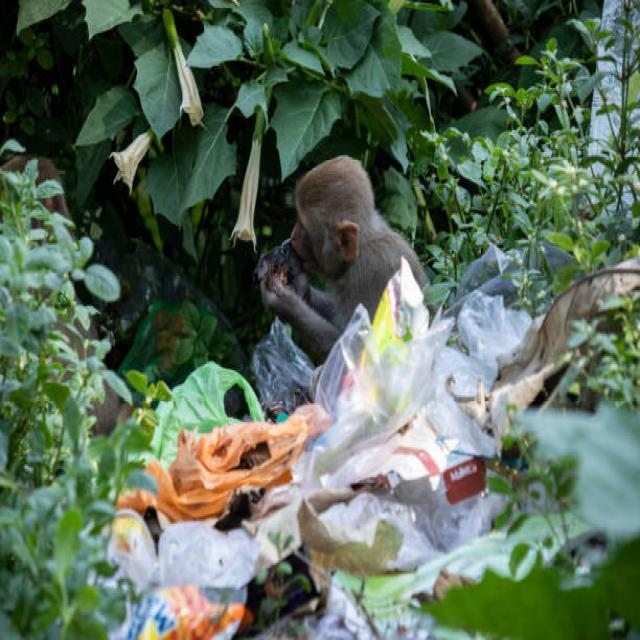trash: (149, 298, 524, 615)
